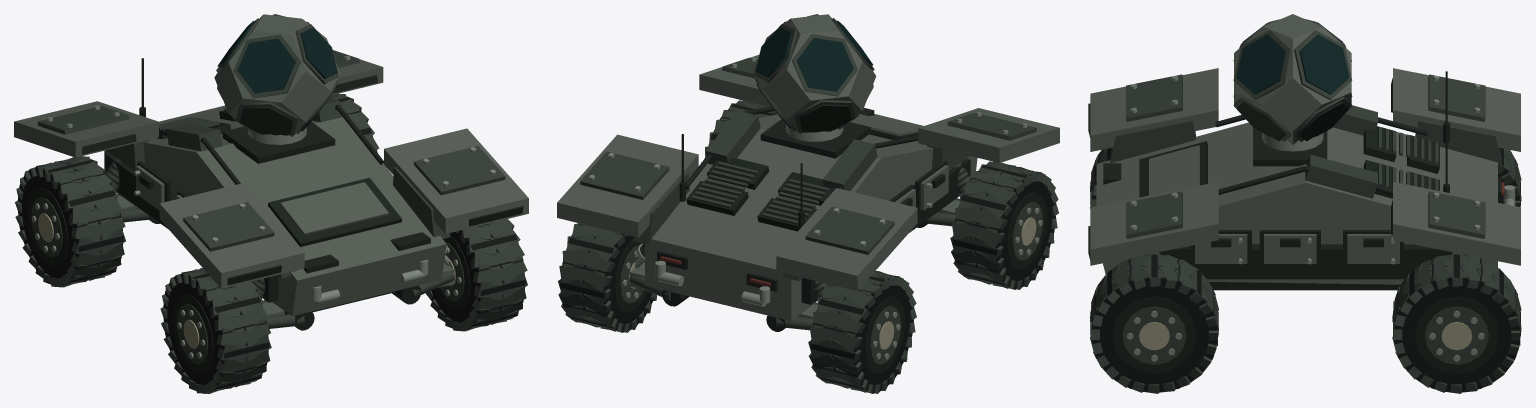
3 renders of one model, left to right at view 1: azimuth 30°, elevation 25°; view 2: azimuth 150°, elevation 25°; view 3: azimuth 270°, elevation 25°, orthographic. The views are drawn at different scales.
Parts seen in each view (by area): view 1: XB12_HULL, WHEEL_RL, WHEEL_FL, WHEEL_FR, SENSOR_INSTRUMENTS, SENSOR_HEX_SPHERE, SUSP_ARM_FL, SUSP_ARM_FR, WHEEL_RR, SUSP_ARM_RL; view 2: XB12_HULL, WHEEL_FL, WHEEL_RL, WHEEL_RR, SENSOR_INSTRUMENTS, SENSOR_HEX_SPHERE, WHEEL_FR, SUSP_ARM_RR, SUSP_ARM_RL, SUSP_ARM_FL; view 3: XB12_HULL, WHEEL_RR, WHEEL_FR, SENSOR_INSTRUMENTS, SENSOR_HEX_SPHERE, WHEEL_RL, WHEEL_FL.
Boxes of the visible parts, box(x1,y1,x2,y2) form: XB12_HULL: box(14, 50, 528, 315); WHEEL_RL: box(15, 156, 125, 287); WHEEL_FL: box(160, 268, 271, 393); WHEEL_FR: box(425, 219, 527, 331); SENSOR_INSTRUMENTS: box(216, 14, 339, 135); SENSOR_HEX_SPHERE: box(214, 14, 340, 136); SUSP_ARM_FL: box(262, 300, 314, 330); SUSP_ARM_FR: box(392, 263, 455, 304); WHEEL_RR: box(329, 93, 379, 152); SUSP_ARM_RL: box(116, 194, 159, 223); XB12_HULL: box(557, 55, 1059, 320); WHEEL_FL: box(950, 161, 1058, 289); WHEEL_RL: box(808, 271, 916, 393); WHEEL_RR: box(558, 223, 656, 332); SENSOR_INSTRUMENTS: box(754, 14, 874, 132); SENSOR_HEX_SPHERE: box(753, 14, 876, 133); WHEEL_FR: box(701, 100, 777, 162); SUSP_ARM_RR: box(629, 262, 689, 306); SUSP_ARM_RL: box(766, 302, 817, 331); SUSP_ARM_FL: box(917, 198, 959, 227); XB12_HULL: box(1088, 68, 1520, 290); WHEEL_RR: box(1392, 253, 1521, 393); WHEEL_FR: box(1090, 253, 1218, 393); SENSOR_INSTRUMENTS: box(1233, 19, 1352, 141); SENSOR_HEX_SPHERE: box(1234, 14, 1351, 144); WHEEL_RL: box(1498, 148, 1521, 206); WHEEL_FL: box(1090, 148, 1111, 208).
Bounding box in the file's own units: 2.88 × 2.51 × 3.38.
